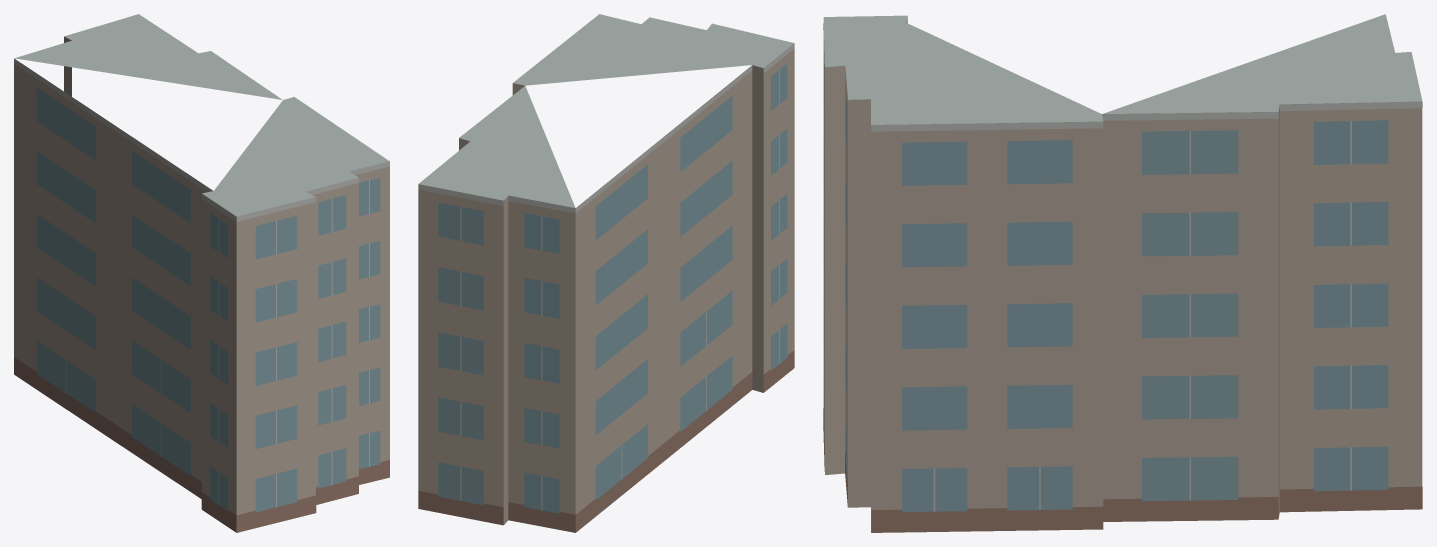
Rendered from survey-upis-32910615.glb.
3 views of the same model, side by side, from view 1: azimuth 30°, elevation 25°; view 2: azimuth 150°, elevation 25°; view 3: azimuth 270°, elevation 25° (orthographic). The views are drawn at different scales.
Visible parts, largest first — view 1: survey-upis-32910615.tmp; view 2: survey-upis-32910615.tmp; view 3: survey-upis-32910615.tmp.
Boxes of the visible parts, box(x1,y1,x2,y2) form: survey-upis-32910615.tmp: box(14, 14, 389, 532); survey-upis-32910615.tmp: box(418, 14, 794, 532); survey-upis-32910615.tmp: box(823, 14, 1422, 532).
Bounding box in the file's own units: 8.65 × 14.8 × 19.71.
